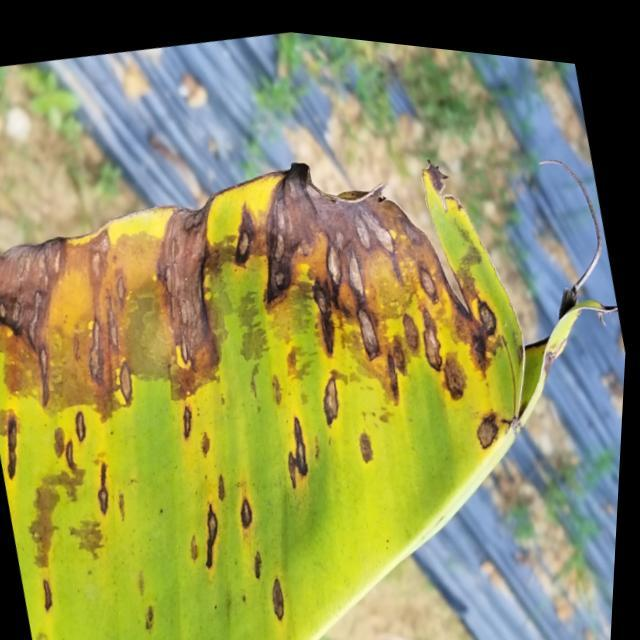Early_rust: (0, 119, 572, 640)
